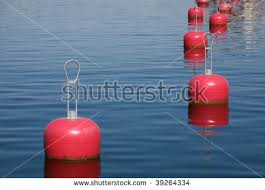buoy: (45, 118, 100, 160), (190, 75, 229, 101), (184, 31, 206, 48), (209, 15, 227, 25), (189, 8, 203, 16)
